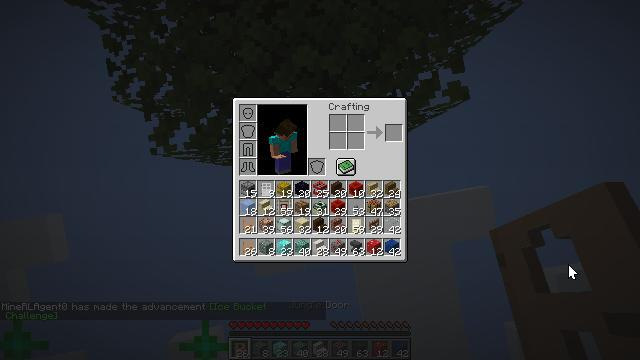cursor: (568, 264, 578, 280)
